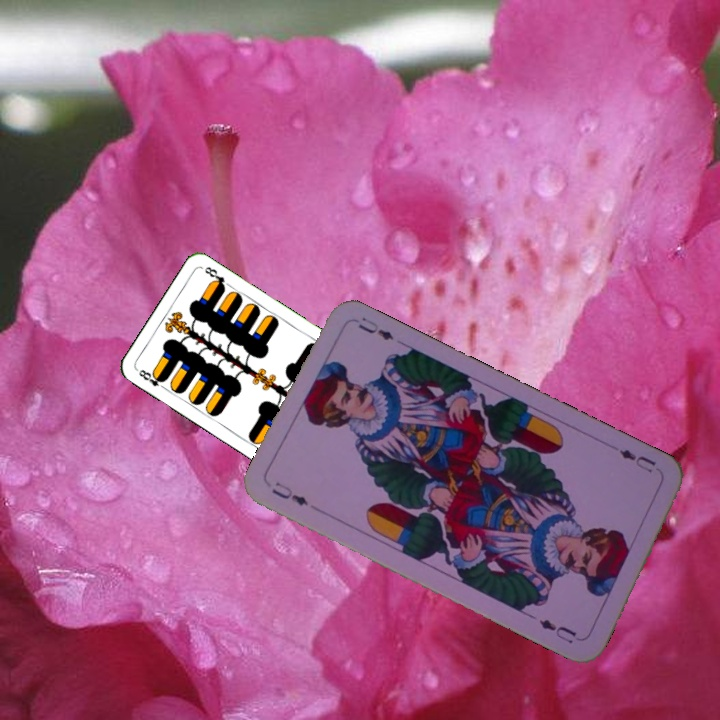E8: (134, 365, 169, 393)
EU: (267, 477, 311, 509), (615, 445, 659, 476)
